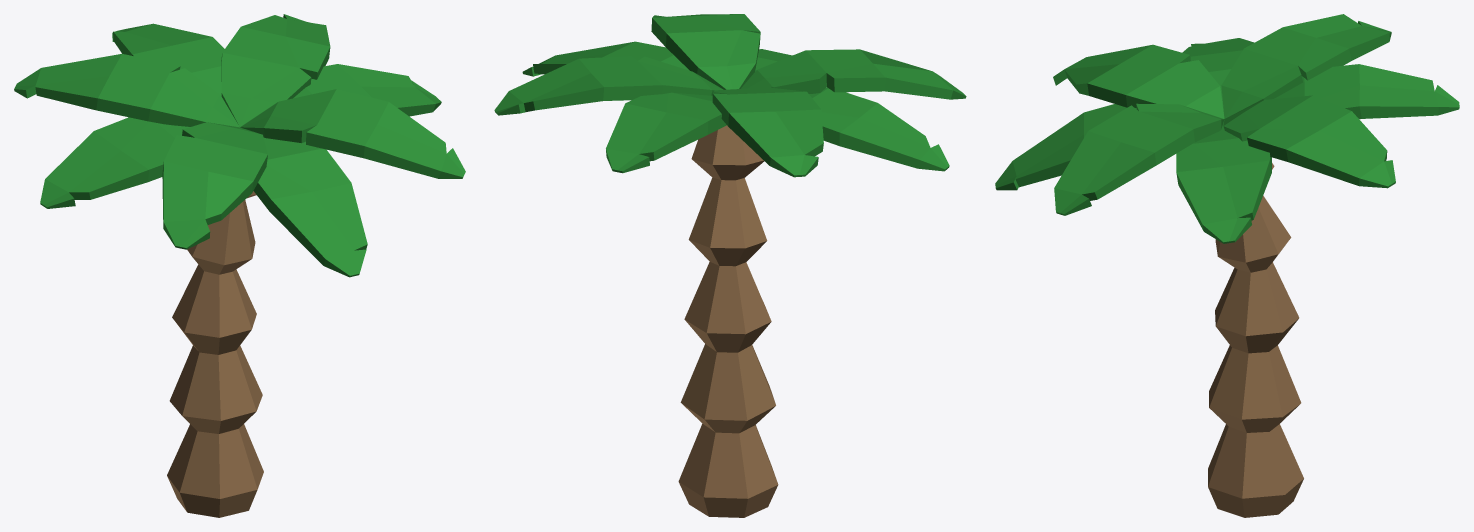
Rendered from PalmTree2.fbx.
3 views of the same model, side by side, from view 1: azimuth 30°, elevation 25°; view 2: azimuth 150°, elevation 25°; view 3: azimuth 270°, elevation 25° (orthographic). The views are drawn at different scales.
Parts seen in each view (by area): view 1: Lead, Palm; view 2: Lead, Palm; view 3: Lead, Palm.
Part boxes in pixels (<box>): Lead: <box>14,14,465,277</box>; Palm: <box>167,191,263,517</box>; Lead: <box>494,14,966,177</box>; Palm: <box>678,125,778,517</box>; Lead: <box>995,14,1459,243</box>; Palm: <box>1208,163,1303,517</box>.
Size of the model in its own units: 932 by 936 by 917.
